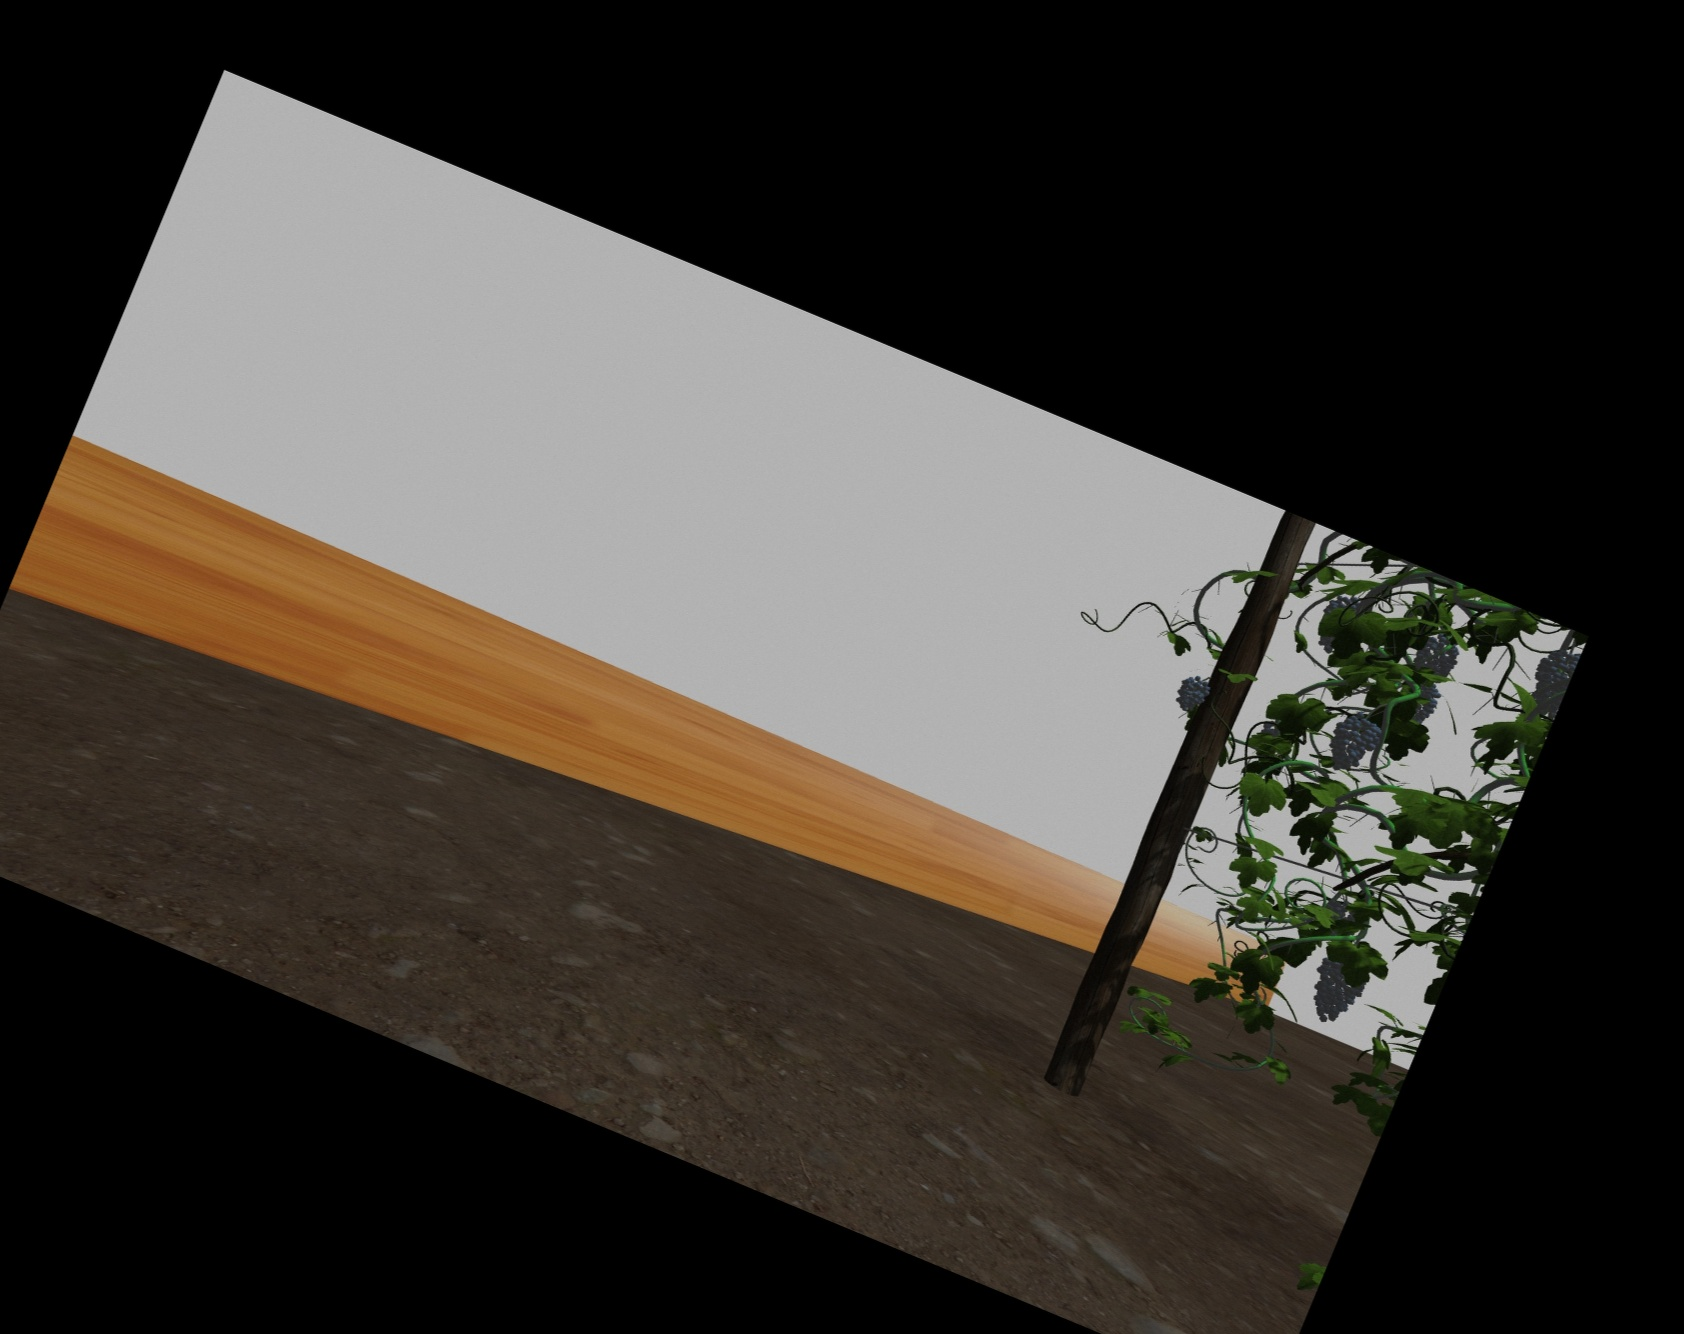grape: (1311, 955, 1361, 1022), (1331, 712, 1376, 772), (1532, 648, 1565, 712), (1415, 634, 1456, 681), (1177, 677, 1207, 711)
